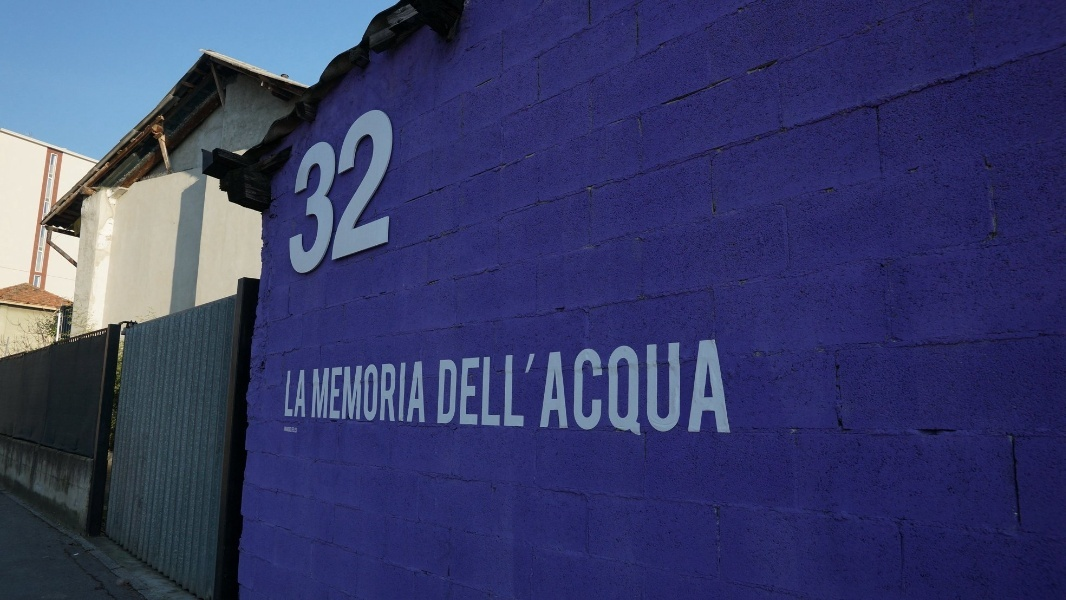text: (305, 99, 320, 281), (321, 99, 336, 281), (337, 99, 352, 281), (353, 99, 368, 281), (369, 99, 384, 281), (385, 99, 400, 281), (561, 337, 576, 440), (577, 337, 592, 440), (593, 337, 608, 440), (609, 337, 624, 440), (625, 337, 640, 440), (641, 337, 656, 440), (657, 337, 672, 440), (673, 337, 688, 440), (689, 337, 704, 440), (705, 337, 720, 440), (401, 99, 409, 281), (721, 337, 733, 440), (449, 353, 464, 429), (465, 353, 480, 429), (481, 353, 496, 429), (497, 353, 512, 429), (513, 353, 528, 429), (549, 337, 560, 440), (298, 99, 304, 281), (321, 360, 336, 425), (337, 360, 352, 425), (353, 360, 368, 425), (369, 360, 384, 425), (385, 360, 400, 425), (401, 360, 416, 425), (289, 369, 304, 420), (438, 353, 448, 429), (529, 353, 538, 429), (417, 360, 427, 425), (313, 360, 320, 425), (305, 369, 308, 420), (289, 427, 298, 434), (287, 369, 288, 420), (284, 427, 288, 434)
